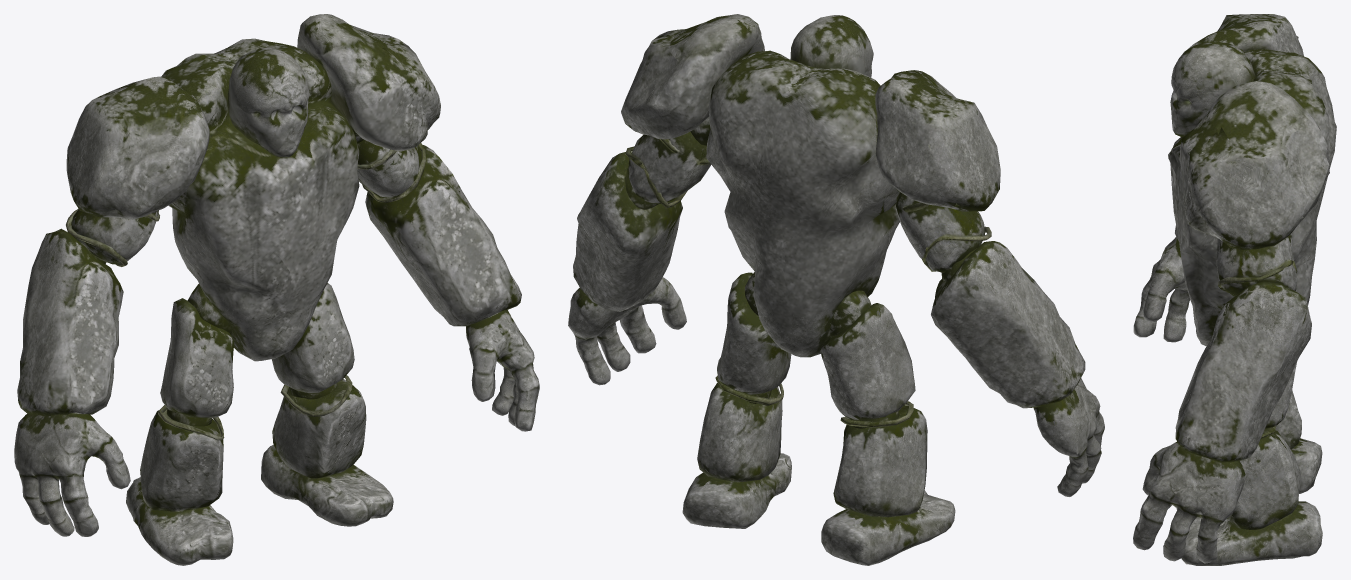
The model's file is stone_golem.fbx.
3 views of the same model, side by side, from view 1: azimuth 30°, elevation 25°; view 2: azimuth 150°, elevation 25°; view 3: azimuth 270°, elevation 25° (orthographic). The views are drawn at different scales.
Visible parts, largest first — view 1: Mesh_0; view 2: Mesh_0; view 3: Mesh_0.
Part boxes in pixels (left/top/right/bottom): Mesh_0: left=14, top=14, right=539, bottom=565; Mesh_0: left=568, top=14, right=1104, bottom=565; Mesh_0: left=1133, top=14, right=1336, bottom=565.
Bounding box in the file's own units: 100 × 92.49 × 36.2.
Materials: 1 (1 with a texture image).
